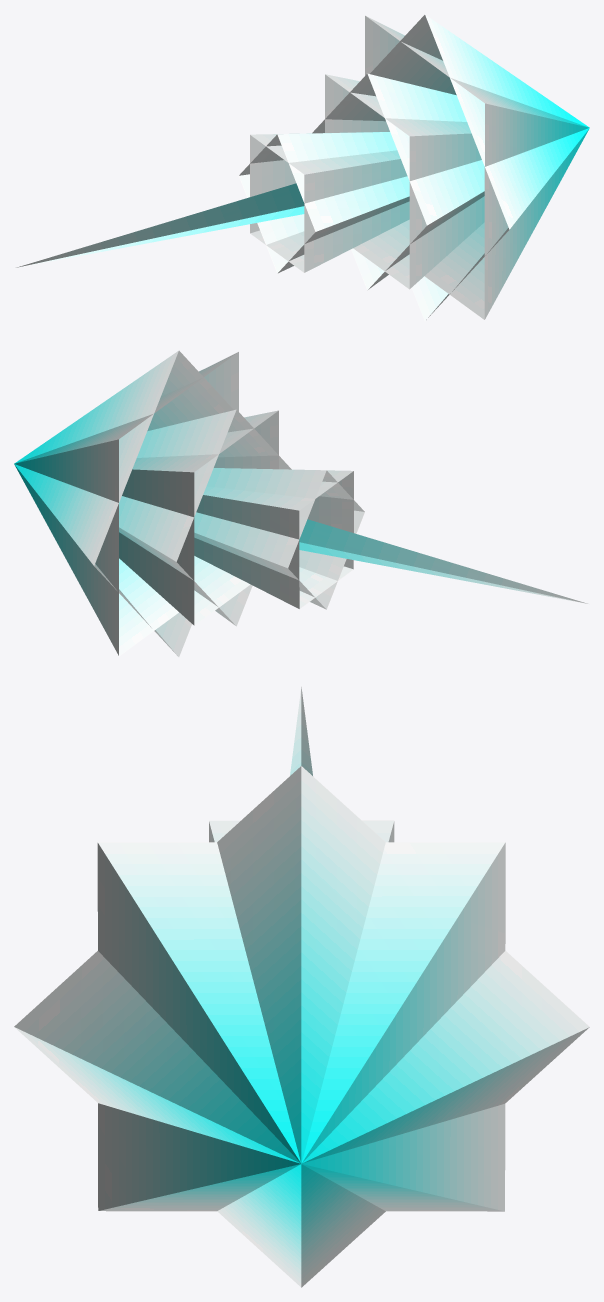
Rendered from plasma_proj.FBX.
3 renders of one model, top to bottom at view 1: azimuth 30°, elevation 25°; view 2: azimuth 150°, elevation 25°; view 3: azimuth 270°, elevation 25°, orthographic. The views are drawn at different scales.
Parts seen in each view (by area): view 1: plasma_proj; view 2: plasma_proj; view 3: plasma_proj.
Part boxes in pixels (x1,y1,x2,y2): plasma_proj: (16,14,589,320); plasma_proj: (14,350,587,656); plasma_proj: (14,687,589,1287).
Size of the model in its own units: 40.73 by 20.76 by 20.76.
1 material, 1 textured.
